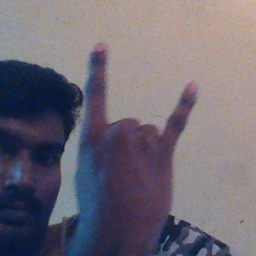V: (72, 39, 205, 233)
